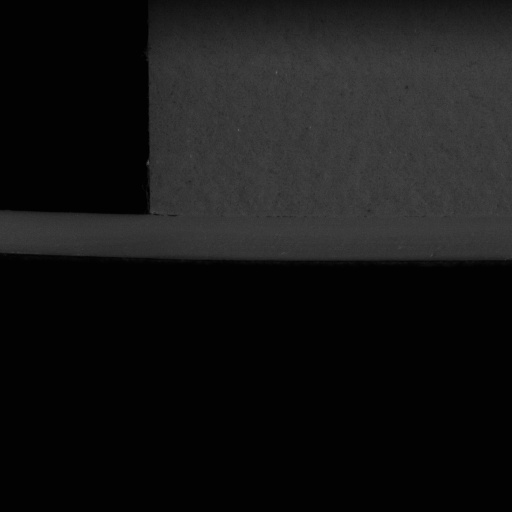changdai: (0, 213, 148, 260)
